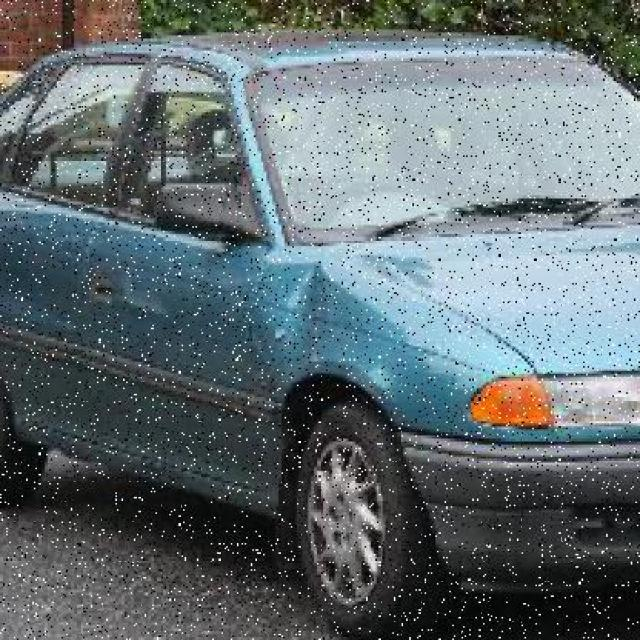car damage: (241, 262, 409, 417), (367, 247, 428, 296)
